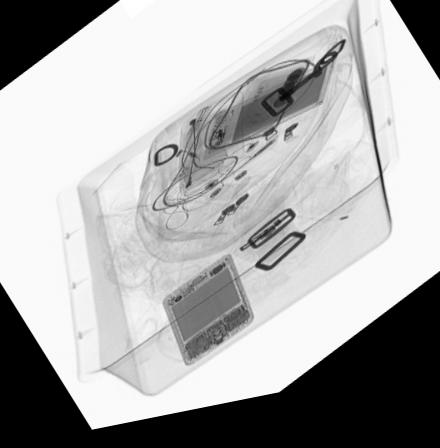Powerbank: (201, 68, 338, 168)
